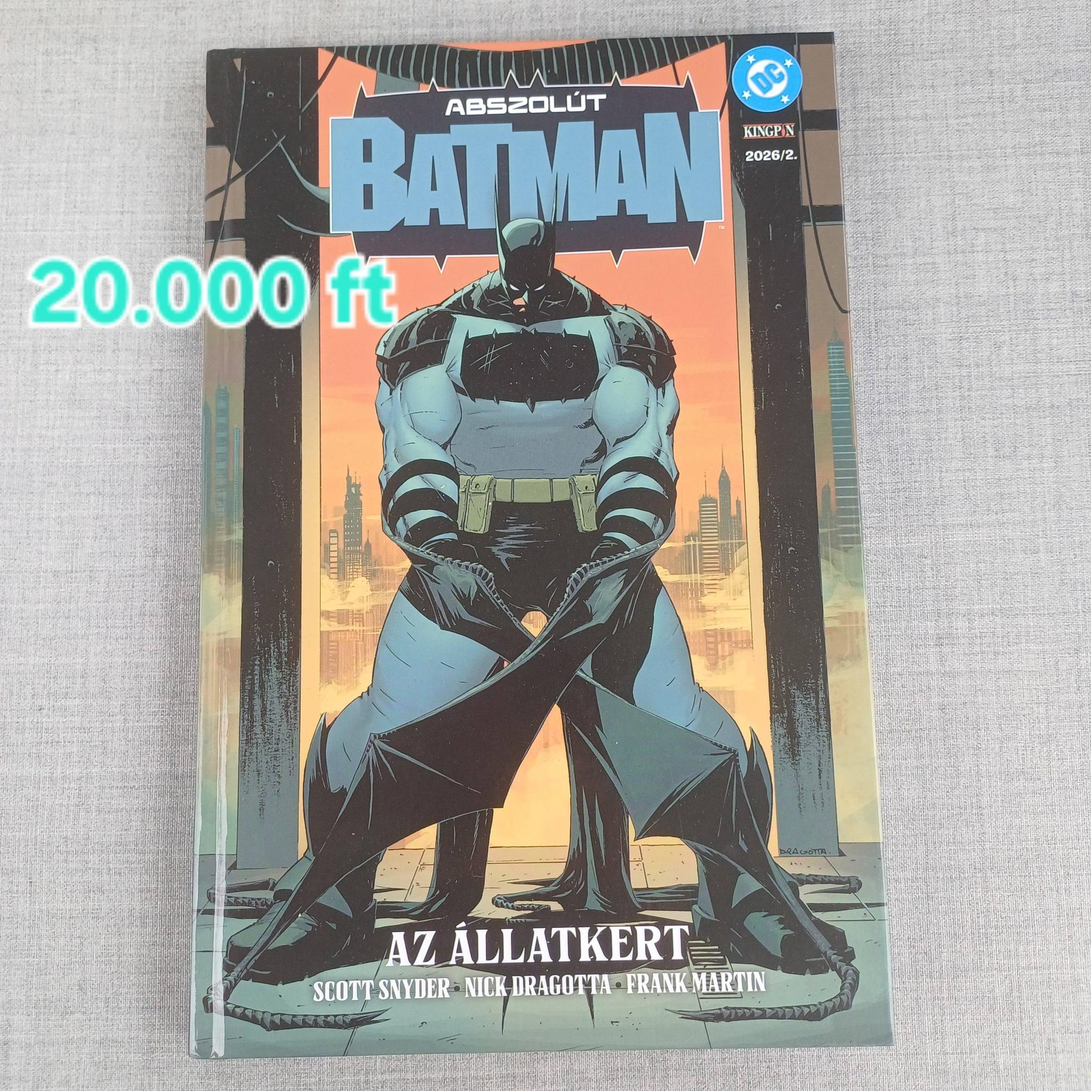comic: (168, 33, 890, 1060)
